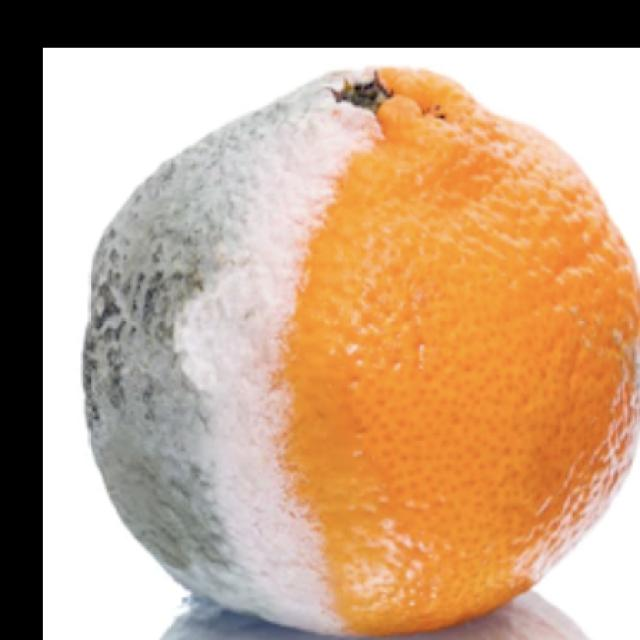sangat_busuk: (85, 56, 640, 640)
